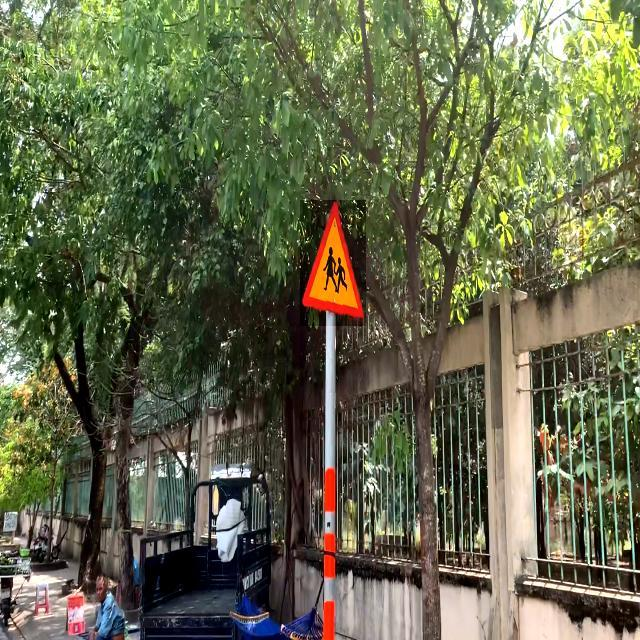W-225: (300, 200, 366, 326)
